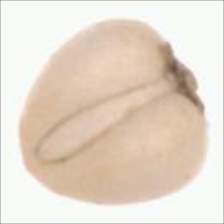L5: (34, 78, 173, 165), (156, 38, 206, 118), (12, 139, 55, 192)
L6: (15, 16, 212, 207)
